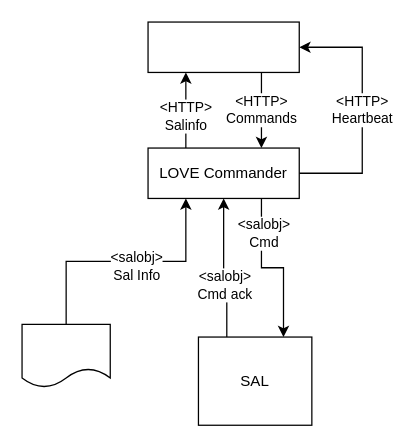
This 415x447 diagram has some shape labels left out. Here are the shapes that lost their labels. From the top down, the centre of each, then its label:
At point (223, 46): "LOVE Manager".
At point (65, 355): "XML".
